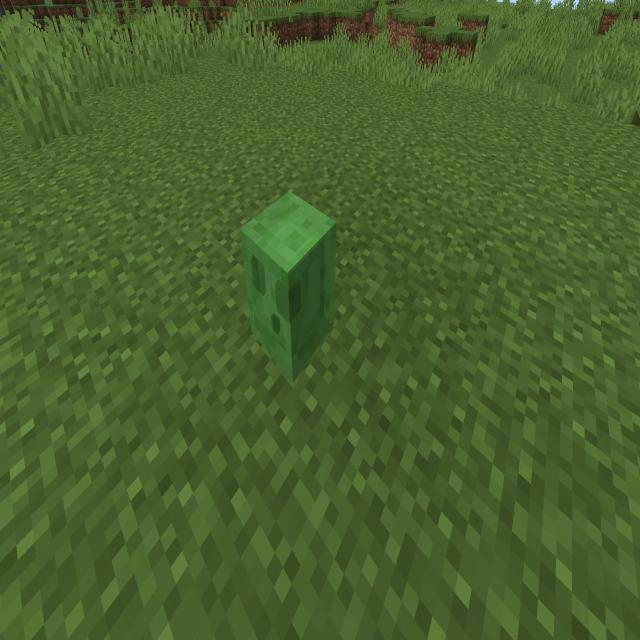Slime: (236, 184, 344, 391)
